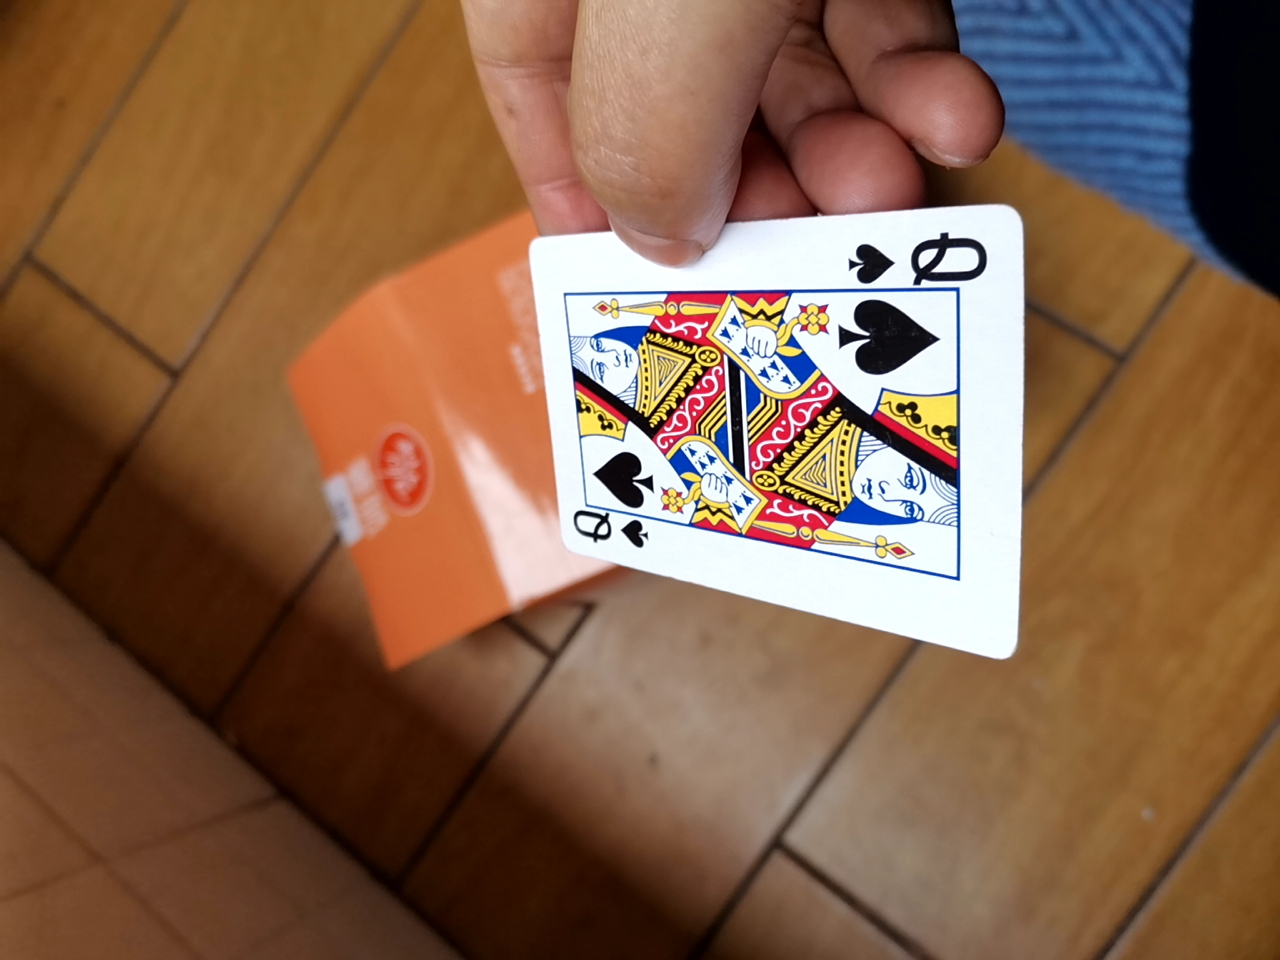ht q: (485, 205, 1016, 649)
